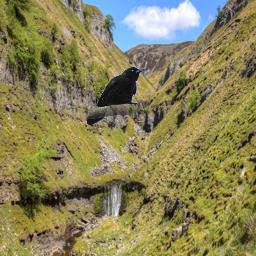Crow: (86, 67, 145, 125)
